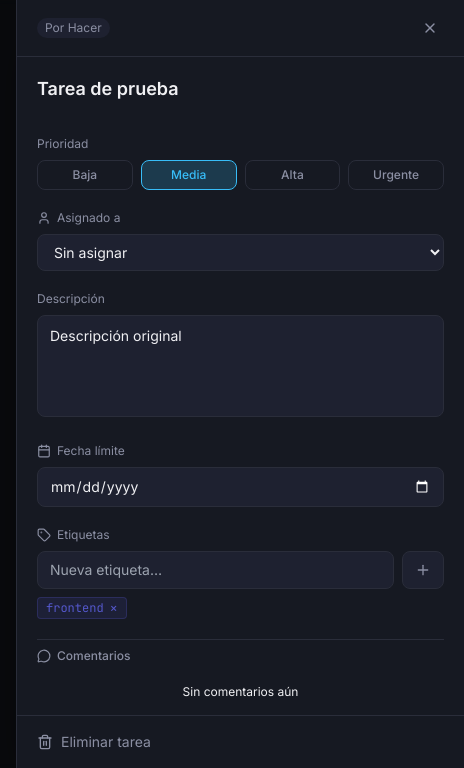
Test: TaskDetailPanel — etiquetas › añade una etiqueta al hacer click en el botón +
The image size is (464, 768).
Step 1. Type "tag-boton" into the field with placeholder "Nueva etiqueta…" → x=216, y=570, box x1=37 y1=551 x2=394 y2=589
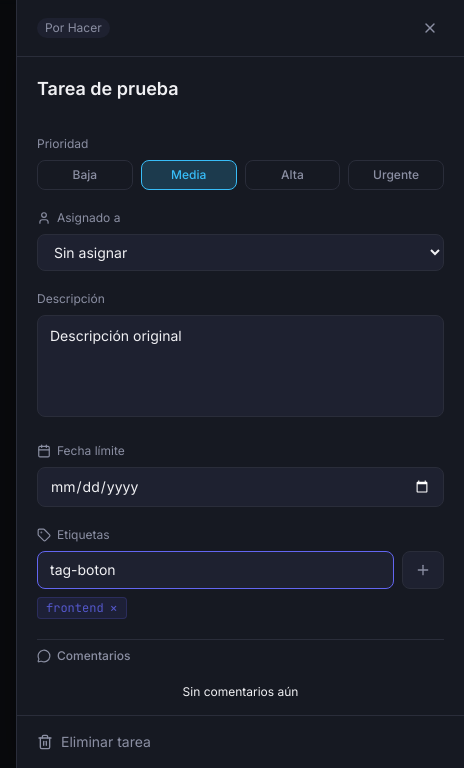
Step 2. Click the 6th button → x=423, y=570, box x1=402 y1=551 x2=444 y2=589
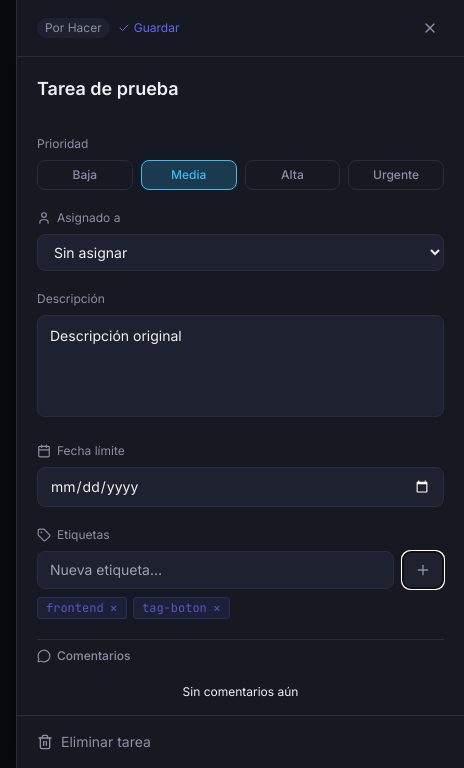
Result: the text "tag-boton" is shown at x1=142 y1=600 x2=207 y2=616
